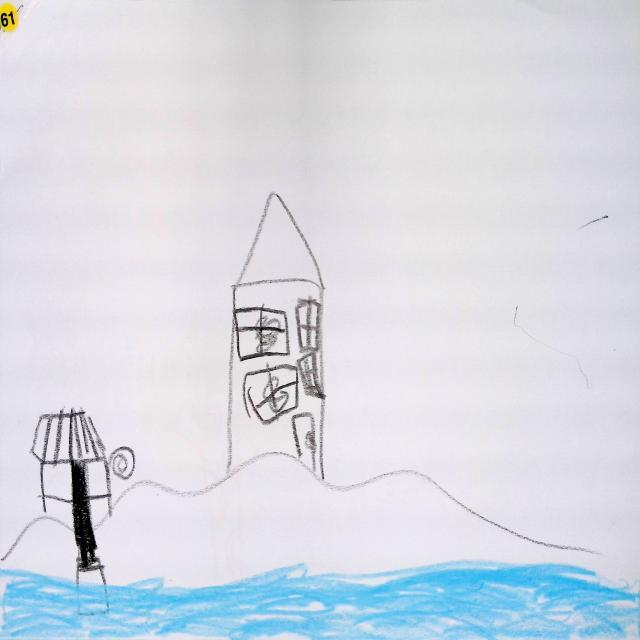door: (292, 413, 316, 472)
house: (227, 193, 325, 478)
roof: (237, 188, 333, 293)
wall: (236, 275, 324, 482)
window: (243, 365, 298, 425), (234, 307, 289, 361), (296, 298, 322, 352), (298, 353, 325, 398)
